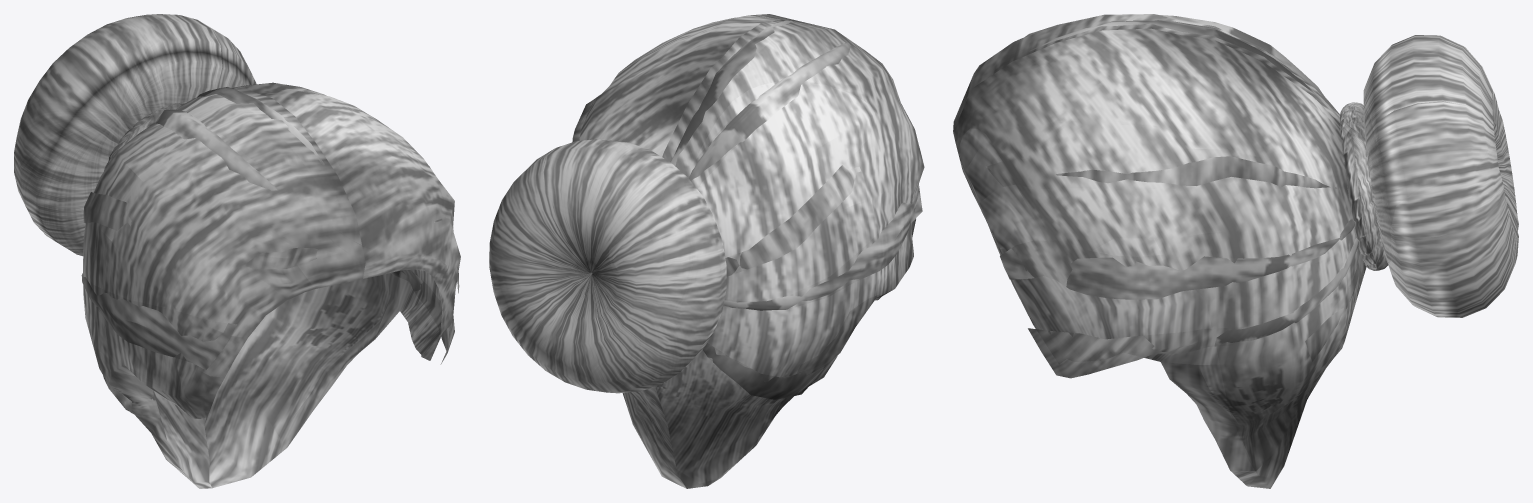
Rendered from daz_hair_rehman_bun.glb.
3 views of the same model, side by side, from view 1: azimuth 30°, elevation 25°; view 2: azimuth 150°, elevation 25°; view 3: azimuth 270°, elevation 25° (orthographic). The views are drawn at different scales.
Visible parts, largest first — view 1: daz_hair_rehman_bun; view 2: daz_hair_rehman_bun; view 3: daz_hair_rehman_bun.
Boxes of the visible parts, x1,y1,x2,y2 form: daz_hair_rehman_bun: (14,14,460,488); daz_hair_rehman_bun: (489,14,924,488); daz_hair_rehman_bun: (953,14,1518,488).
Size of the model in its own units: 0.1514 by 0.1995 by 0.2259.
1 material, 1 textured.
